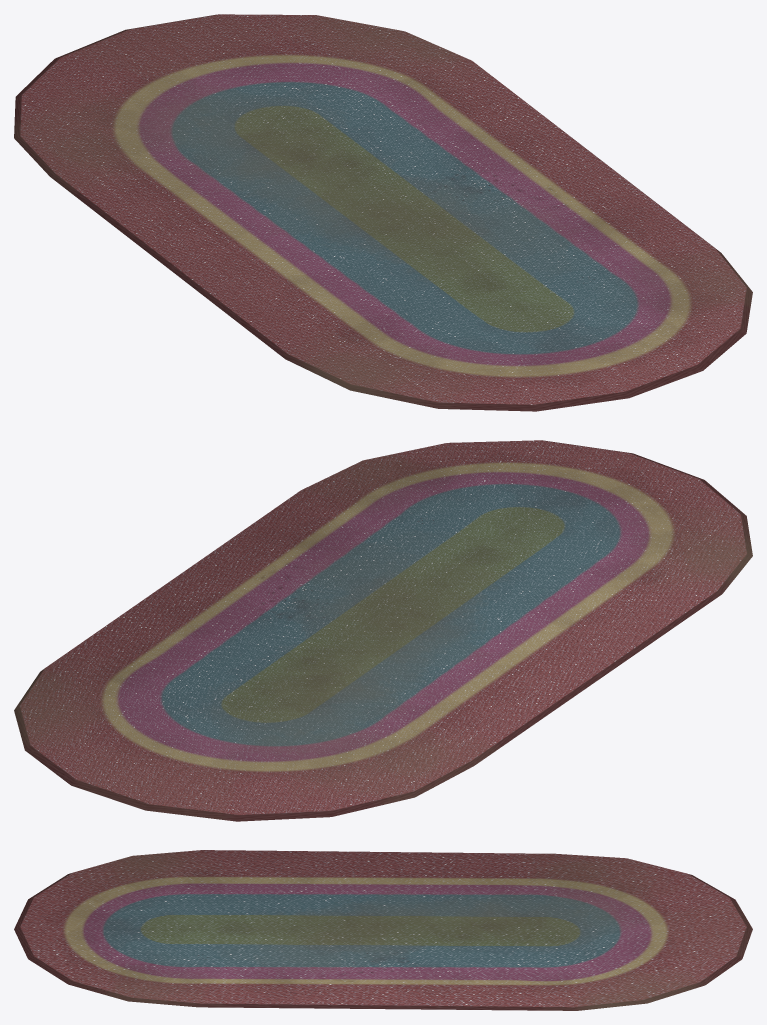
The model's file is KidsRug.fbx.
3 views of the same model, one above another, from view 1: azimuth 30°, elevation 25°; view 2: azimuth 150°, elevation 25°; view 3: azimuth 270°, elevation 25° (orthographic). The views are drawn at different scales.
Visible parts, largest first — view 1: KidsRug; view 2: KidsRug; view 3: KidsRug.
Boxes of the visible parts, bbox=[...] form: KidsRug: bbox=[14, 14, 752, 411]; KidsRug: bbox=[14, 440, 752, 821]; KidsRug: bbox=[14, 850, 752, 1010].
Bounding box in the file's own units: 205 × 1.49 × 400.
Materials: 1 (1 with a texture image).
